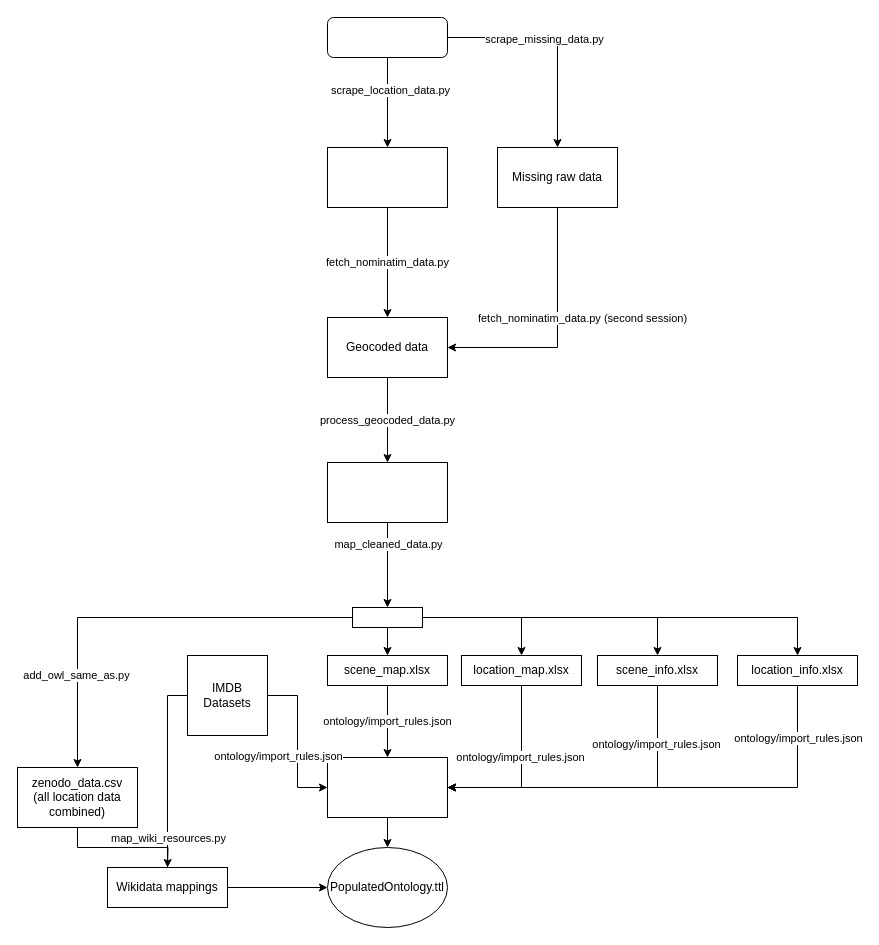
The diagram is 879 pixels wide and 945 high, and some of its shapes have lost their labels. Each missing label, with the centre of its shape:
"IMDB Webpages" goes at pixel 387 37.
"Import into Protege (PopulatedOntology)" goes at pixel 387 787.
"Mappings" goes at pixel 387 617.
"Processed data" goes at pixel 387 492.
"Raw data" goes at pixel 387 177.
